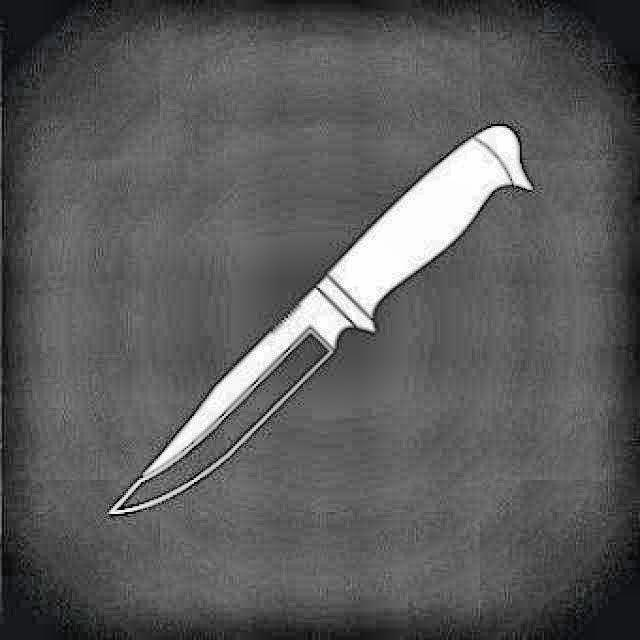knife: (110, 122, 534, 524)
